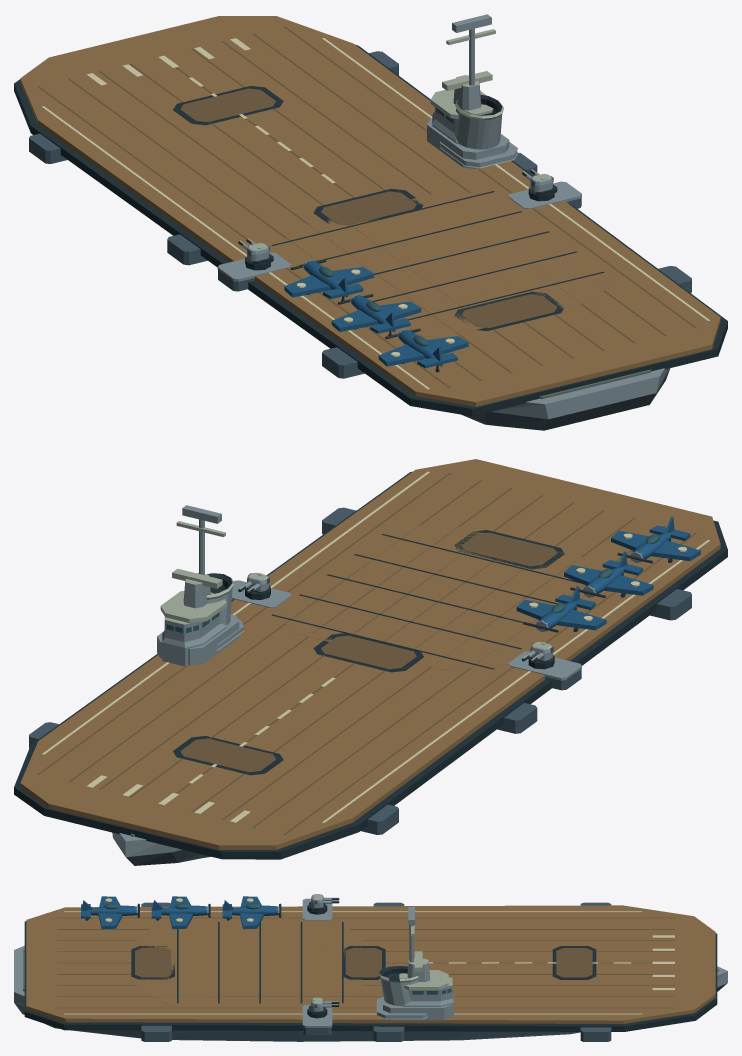
The model's file is carrier.glb.
3 views of the same model, one above another, from view 1: azimuth 30°, elevation 25°; view 2: azimuth 150°, elevation 25°; view 3: azimuth 270°, elevation 25° (orthographic). The views are drawn at different scales.
Parts seen in each view (by area): view 1: carrier-carrier-geometry, carrier-part_flight-deck-geometry, carrier-historic_funnel_0-geometry, carrier-part_bridge-geometry, carrier-aircraft_lift_0-geometry, carrier-aircraft_lift_2-geometry, carrier-aircraft_lift_1-geometry, carrier-parked_aircraft_0-geometry, carrier-parked_aircraft_2-geometry, carrier-parked_aircraft_1-geometry, carrier-part_aa-port-geometry, carrier-part_aa-starboard-geometry (+2 smaller); view 2: carrier-carrier-geometry, carrier-part_flight-deck-geometry, carrier-part_bridge-geometry, carrier-aircraft_lift_0-geometry, carrier-aircraft_lift_2-geometry, carrier-aircraft_lift_1-geometry, carrier-parked_aircraft_2-geometry, carrier-parked_aircraft_1-geometry, carrier-parked_aircraft_0-geometry, carrier-historic_funnel_0-geometry, carrier-part_aa-port-geometry, carrier-part_aa-starboard-geometry (+2 smaller); view 3: carrier-carrier-geometry, carrier-part_flight-deck-geometry, carrier-part_bridge-geometry, carrier-historic_funnel_0-geometry, carrier-aircraft_lift_0-geometry, carrier-aircraft_lift_2-geometry, carrier-aircraft_lift_1-geometry, carrier-parked_aircraft_1-geometry, carrier-parked_aircraft_2-geometry, carrier-parked_aircraft_0-geometry, carrier-part_aa-starboard-geometry, carrier-turret_aa_aa-starboard-geometry (+2 smaller).
Boxes of the visible parts, x1,y1,x2,y2 form: carrier-carrier-geometry: (14, 16, 727, 430); carrier-part_flight-deck-geometry: (271, 190, 616, 337); carrier-historic_funnel_0-geometry: (427, 94, 517, 168); carrier-part_bridge-geometry: (430, 14, 495, 143); carrier-aircraft_lift_0-geometry: (173, 86, 283, 125); carrier-aircraft_lift_2-geometry: (454, 291, 563, 330); carrier-aircraft_lift_1-geometry: (313, 188, 423, 225); carrier-parked_aircraft_0-geometry: (378, 328, 468, 372); carrier-parked_aircraft_2-geometry: (284, 259, 374, 301); carrier-parked_aircraft_1-geometry: (331, 294, 421, 335); carrier-part_aa-port-geometry: (217, 252, 291, 291); carrier-part_aa-starboard-geometry: (508, 181, 581, 208); carrier-carrier-geometry: (14, 459, 727, 865); carrier-part_flight-deck-geometry: (271, 523, 612, 670); carrier-part_bridge-geometry: (160, 505, 226, 666); carrier-aircraft_lift_0-geometry: (173, 736, 283, 775); carrier-aircraft_lift_2-geometry: (454, 530, 564, 569); carrier-aircraft_lift_1-geometry: (313, 633, 423, 672); carrier-parked_aircraft_2-geometry: (516, 586, 606, 632); carrier-parked_aircraft_1-geometry: (564, 551, 653, 597); carrier-parked_aircraft_0-geometry: (611, 517, 700, 563); carrier-historic_funnel_0-geometry: (157, 573, 243, 665); carrier-part_aa-port-geometry: (508, 651, 581, 690); carrier-part_aa-starboard-geometry: (231, 580, 291, 607); carrier-carrier-geometry: (14, 902, 727, 1041); carrier-part_flight-deck-geometry: (137, 918, 361, 1007); carrier-part_bridge-geometry: (399, 907, 453, 1016); carrier-historic_funnel_0-geometry: (376, 966, 451, 1020); carrier-aircraft_lift_0-geometry: (552, 946, 596, 979); carrier-aircraft_lift_2-geometry: (131, 946, 174, 979); carrier-aircraft_lift_1-geometry: (343, 946, 385, 979); carrier-parked_aircraft_1-geometry: (151, 896, 210, 929); carrier-parked_aircraft_2-geometry: (222, 896, 281, 929); carrier-parked_aircraft_0-geometry: (81, 896, 139, 929); carrier-part_aa-starboard-geometry: (302, 1005, 332, 1035); carrier-turret_aa_aa-starboard-geometry: (307, 997, 339, 1018).
Size of the model in its own units: 2.6 by 1.4 by 6.06.
